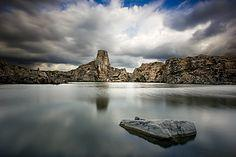mountain: (10, 4, 205, 57), (129, 45, 232, 86)
